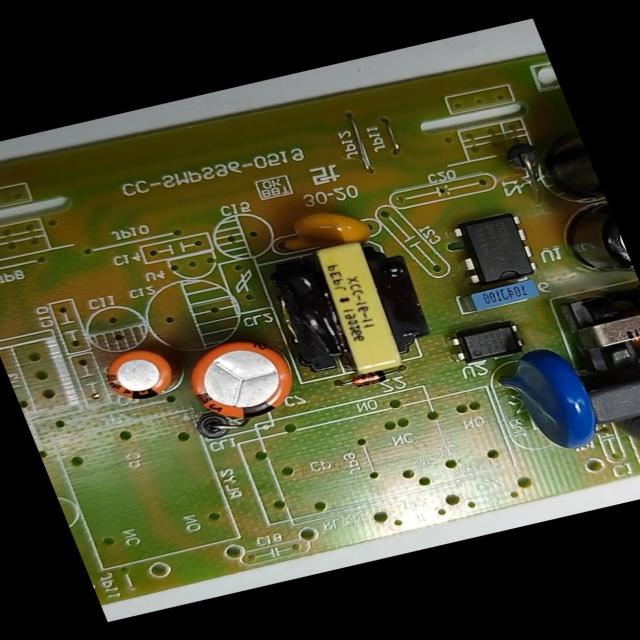Cap1: (175, 331, 305, 427)
Cap2: (95, 344, 182, 408)
Cap3: (554, 202, 637, 290)
Cap4: (522, 120, 604, 208)
MOSFET: (447, 208, 543, 290)
Mov: (489, 340, 612, 462)
Resistor: (616, 407, 640, 465)
Transformer: (259, 230, 444, 385), (552, 285, 639, 387)
